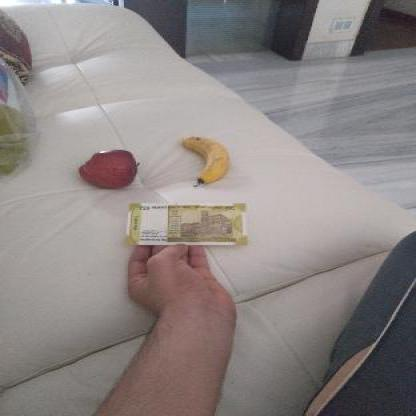New20Back: (124, 201, 249, 245)
